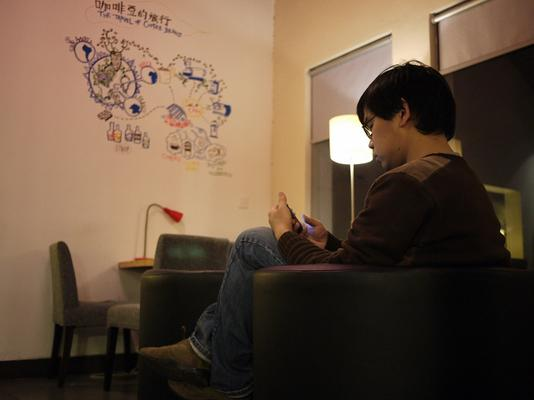person: (140, 61, 511, 400)
